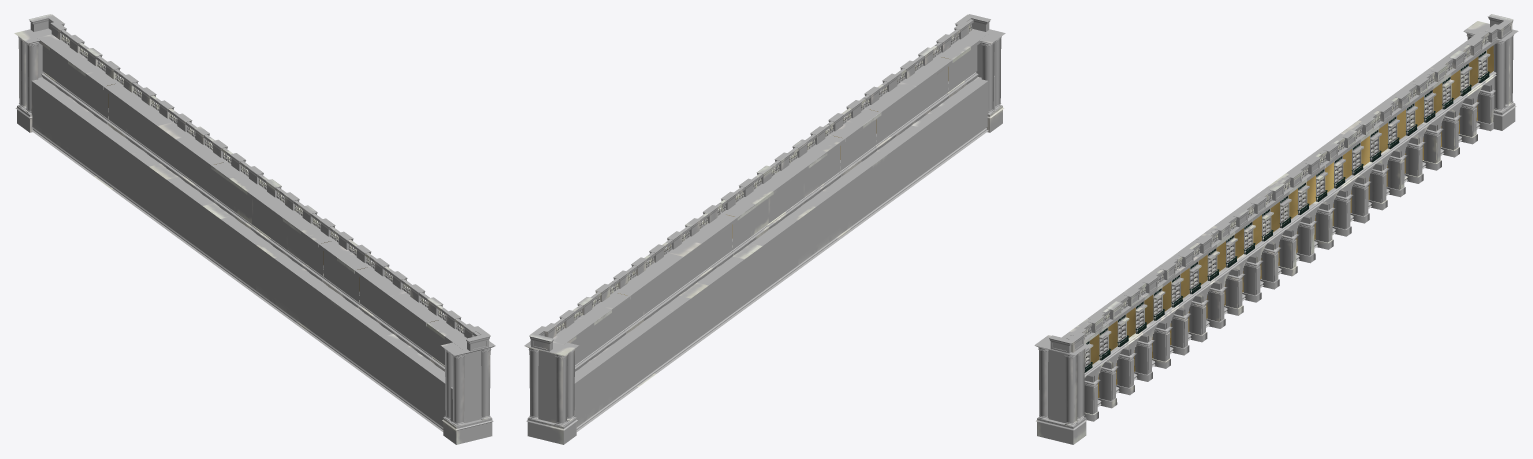
The model's file is builidings_1.fbx.
3 renders of one model, left to right at view 1: azimuth 30°, elevation 25°; view 2: azimuth 150°, elevation 25°; view 3: azimuth 330°, elevation 25°, orthographic.
Parts seen in each view (by area): view 1: polySurface1548; view 2: polySurface1548; view 3: polySurface1548.
Boxes of the visible parts, bbox=[...] form: polySurface1548: bbox=[14, 14, 495, 444]; polySurface1548: bbox=[524, 14, 1005, 444]; polySurface1548: bbox=[1034, 14, 1518, 444].
Bounding box in the file's own units: 4.36 × 10.24 × 81.
Materials: 4 (4 with a texture image).
